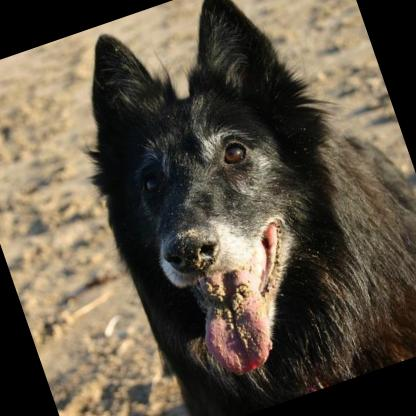groenendael: (29, 0, 416, 416)
